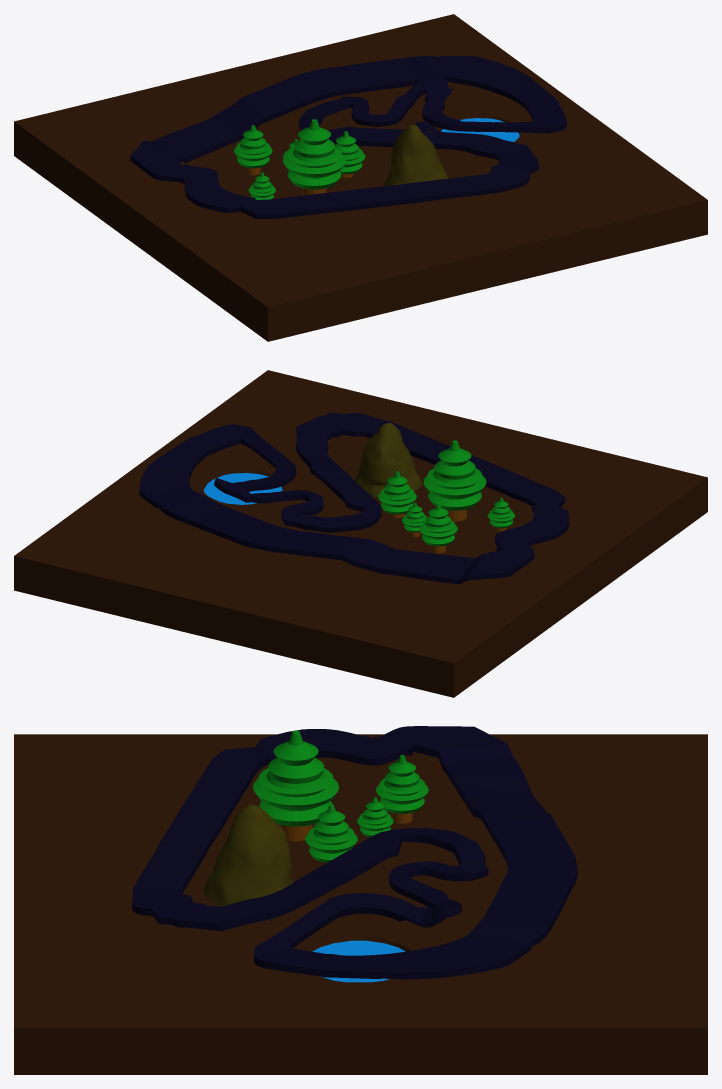
File: FormulaTrack.fbx
3 renders of one model, top to bottom at view 1: azimuth 30°, elevation 25°; view 2: azimuth 150°, elevation 25°; view 3: azimuth 270°, elevation 25°, orthographic. The views are drawn at different scales.
Visible parts, largest first — view 1: Plane.001, Plane, Cylinder.002, Cone, Cylinder.004, Cylinder.001, Plane.002, Cylinder.003; view 2: Plane.001, Plane, Cylinder.002, Cone, Cylinder.004, Cylinder.001, Plane.002, Cylinder.003, Cylinder; view 3: Plane.001, Plane, Cone, Cylinder.002, Cylinder.004, Cylinder.001, Plane.002, Cylinder.
Part boxes in pixels (<box>): Plane.001: <box>14,14,707,341</box>; Plane: <box>130,55,566,218</box>; Cylinder.002: <box>283,119,345,195</box>; Cone: <box>383,124,448,186</box>; Cylinder.004: <box>234,125,272,175</box>; Cylinder.001: <box>335,131,365,177</box>; Plane.002: <box>441,118,519,141</box>; Cylinder.003: <box>248,172,275,199</box>; Plane.001: <box>14,370,707,697</box>; Plane: <box>139,412,569,584</box>; Cylinder.002: <box>423,440,486,521</box>; Cone: <box>354,423,422,496</box>; Cylinder.004: <box>419,503,457,553</box>; Cylinder.001: <box>378,471,416,518</box>; Plane.002: <box>203,473,282,504</box>; Cylinder.003: <box>487,497,514,532</box>; Cylinder: <box>402,502,426,537</box>; Plane.001: <box>14,734,707,1074</box>; Plane: <box>132,726,577,979</box>; Cone: <box>203,804,293,906</box>; Cylinder.002: <box>253,730,338,841</box>; Cylinder.004: <box>376,755,428,823</box>; Cylinder.001: <box>305,804,357,865</box>; Plane.002: <box>312,940,405,982</box>; Cylinder: <box>357,797,393,837</box>.
Bounding box in the file's own units: 1861 × 442 × 1861.
